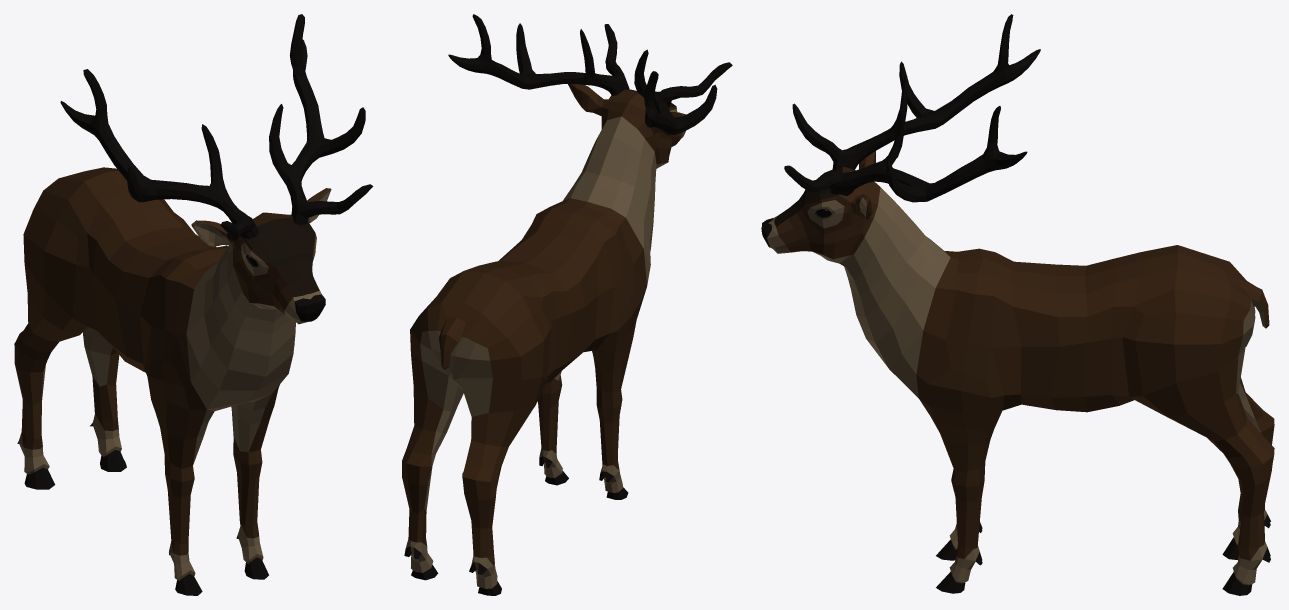
The model's file is Stag.obj.
3 renders of one model, left to right at view 1: azimuth 30°, elevation 25°; view 2: azimuth 150°, elevation 25°; view 3: azimuth 270°, elevation 25°, orthographic. The views are drawn at different scales.
Visible parts, largest first — view 1: Stag_Cube, Stag_Horns_Cube.001; view 2: Stag_Cube, Stag_Horns_Cube.001; view 3: Stag_Cube, Stag_Horns_Cube.001.
Part boxes in pixels (box(x1,y1,x2,y2)): Stag_Cube: box(14, 167, 331, 595); Stag_Horns_Cube.001: box(60, 14, 373, 241); Stag_Cube: box(402, 84, 685, 595); Stag_Horns_Cube.001: box(448, 14, 732, 134); Stag_Cube: box(761, 151, 1274, 595); Stag_Horns_Cube.001: box(784, 14, 1040, 202).
Size of the model in its own units: 2.56 by 5.37 by 4.85.
